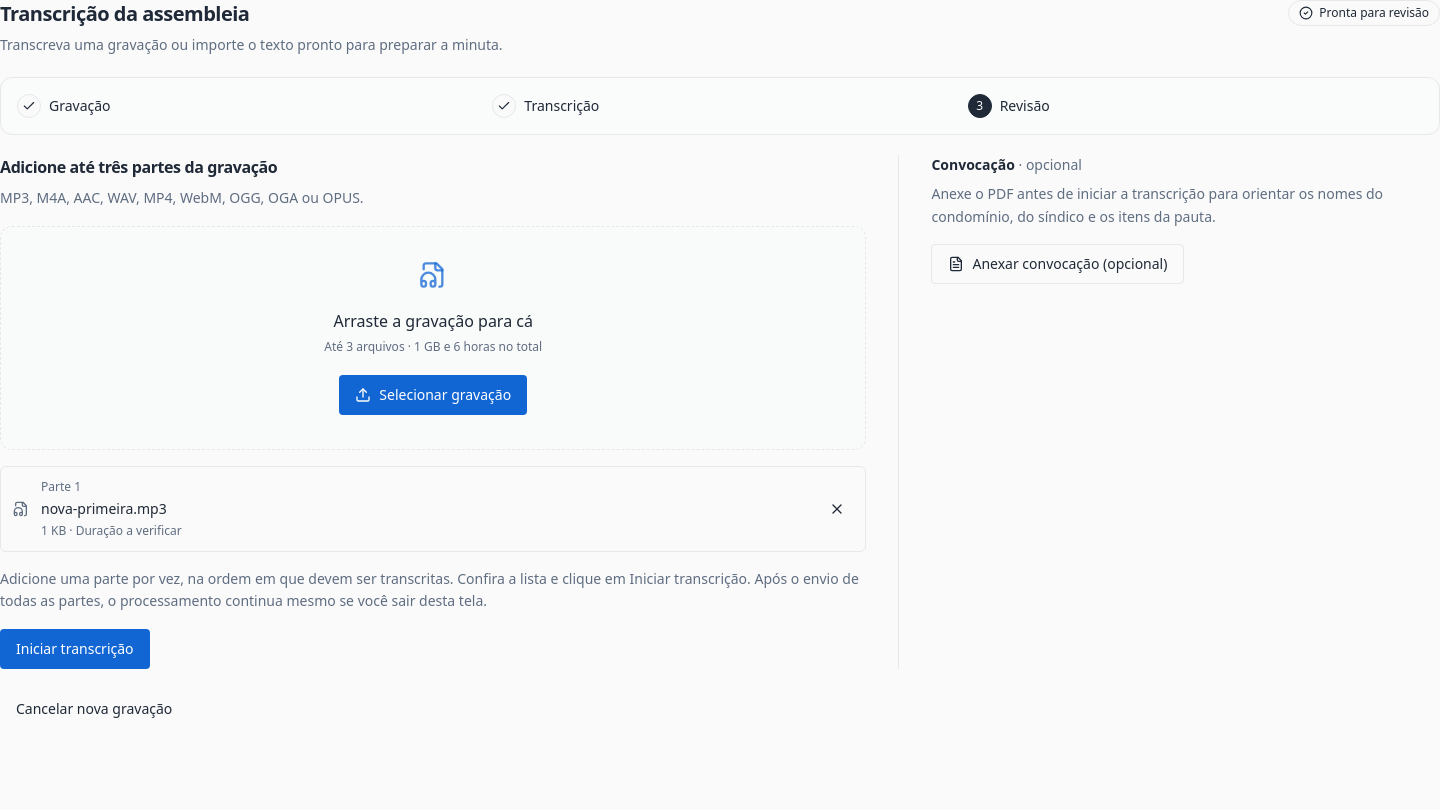
Test case: AtaTranscriptionPanel · partes ordenadas › confirms replacement only after the complete new selection is ready to start
The image size is (1440, 810).
Earlier steps of the test are not shown.
Later steps or results of the test are not shown.
Check: the text "nova-primeira.mp3" is shown, box 41,498 -> 167,518
Step 1. Click the button "Iniciar transcrição" → (75, 649), box 0,629 -> 150,669
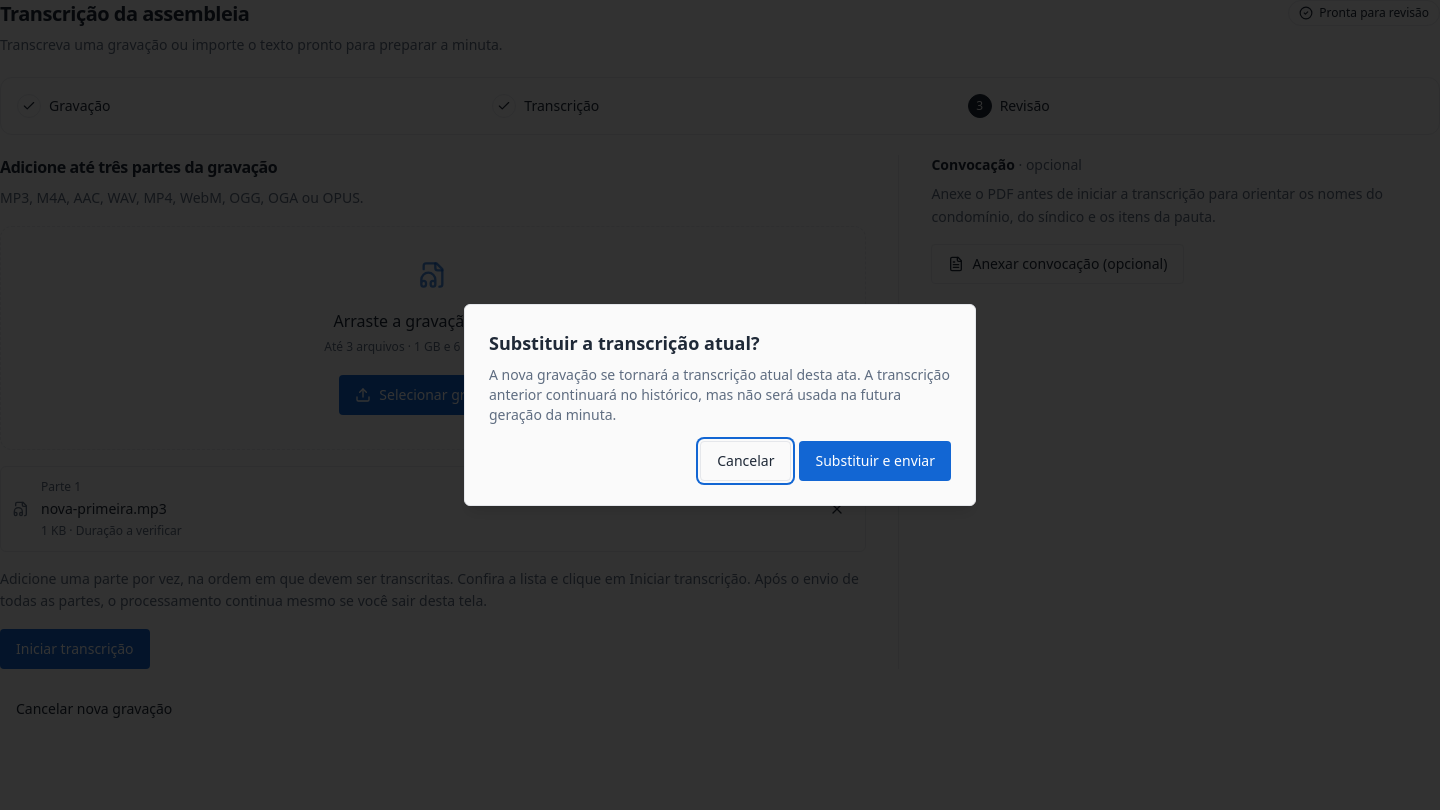
Check: the dialog shows "Substituir a transcrição atual?", box 489,331 -> 760,355
